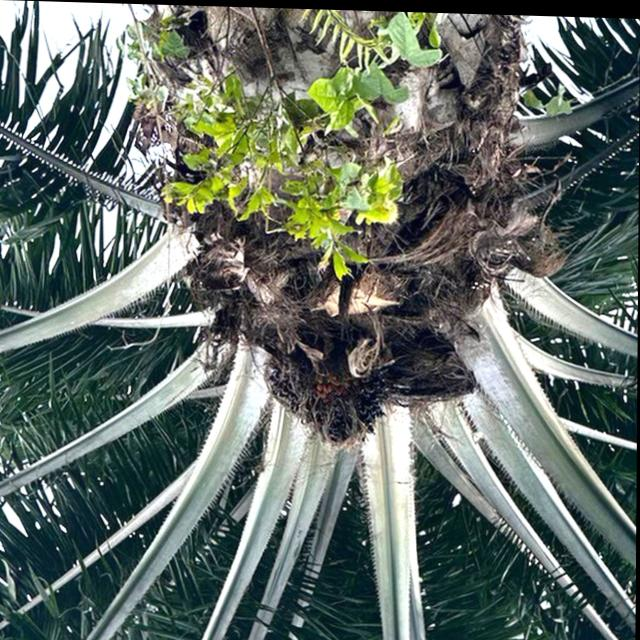almost: (257, 321, 400, 457)
